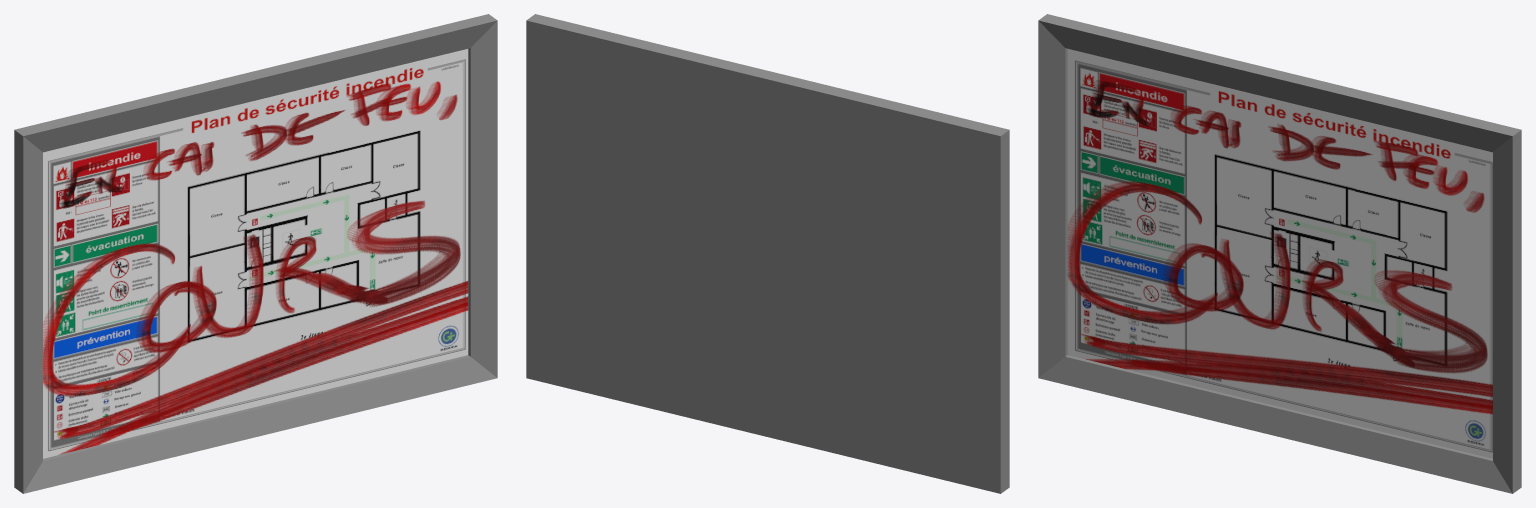
Rendered from fireplan cours.FBX.
3 views of the same model, side by side, from view 1: azimuth 30°, elevation 25°; view 2: azimuth 150°, elevation 25°; view 3: azimuth 330°, elevation 25° (orthographic).
Parts seen in each view (by area): view 1: fireplan cours; view 2: fireplan cours; view 3: fireplan cours.
Part boxes in pixels (bbox=[...]): fireplan cours: bbox=[14, 14, 497, 493]; fireplan cours: bbox=[526, 14, 1009, 493]; fireplan cours: bbox=[1038, 14, 1521, 493].
Bounding box in the file's own units: 0.5639 × 0.4063 × 0.0183.
